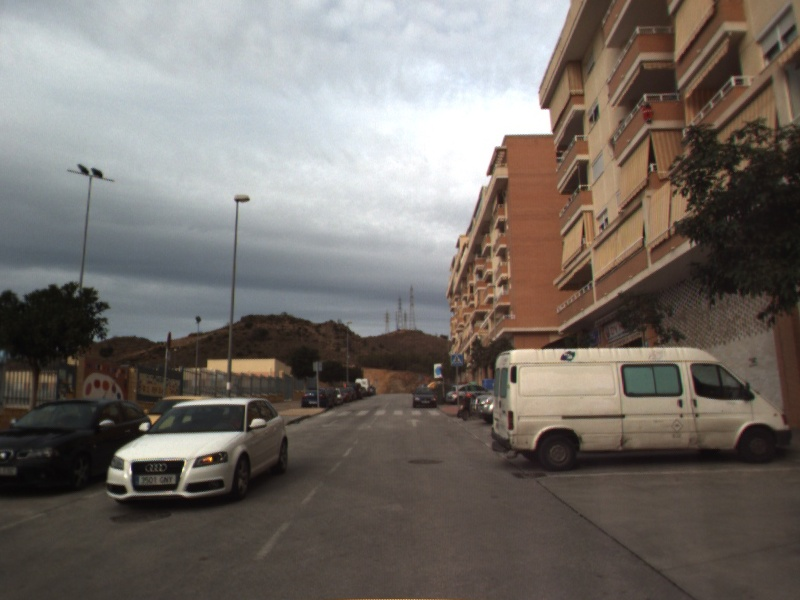STRAIGHT: (404, 416, 425, 428)
